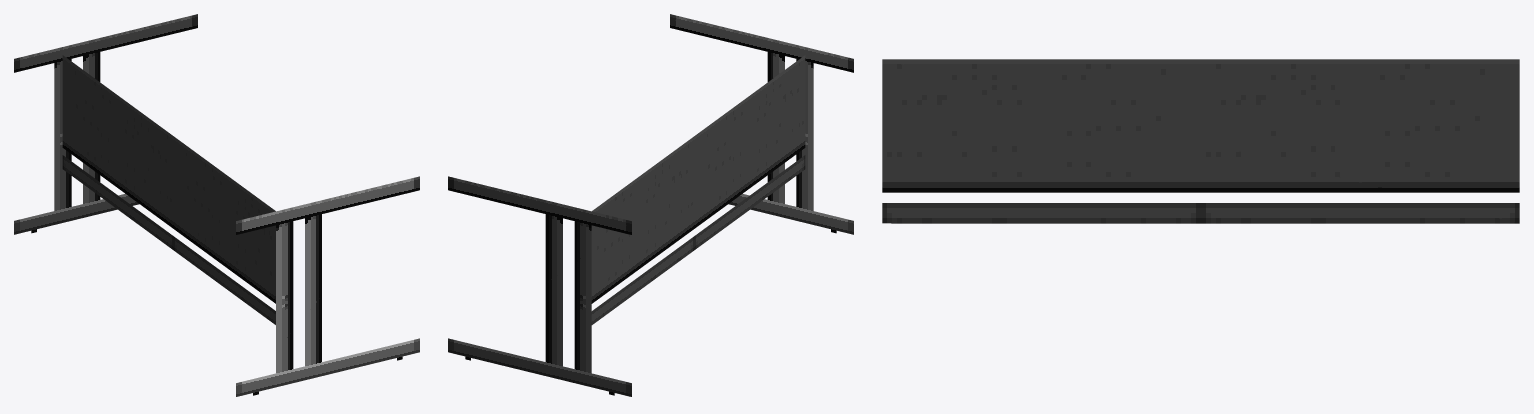
The model's file is metal_table_secondary_1.glb.
The picture shows the model from 3 angles, left to right: view 1: azimuth 30°, elevation 25°; view 2: azimuth 150°, elevation 25°; view 3: azimuth 270°, elevation 25°; orthographic projection. The views are drawn at different scales.
Visible parts, largest first — view 1: Object; view 2: Object; view 3: Object.
Part boxes in pixels (bbox=[...]): Object: bbox=[14, 14, 419, 396]; Object: bbox=[448, 14, 853, 396]; Object: bbox=[882, 59, 1519, 223].
Size of the model in its own units: 1.14 by 1.06 by 2.38.
3 materials, 3 textured.
